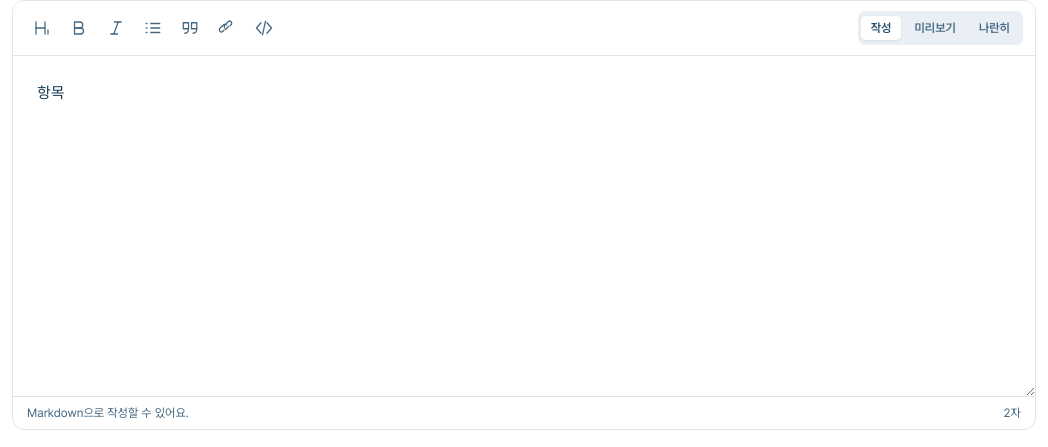
Test: 목록·링크·코드 도구와 분할 보기를 키보드로 접근할 수 있다
The image size is (1048, 447).
Click the button with aria-label "분할 보기".
click(994, 28)  # box [969, 16, 1020, 40]
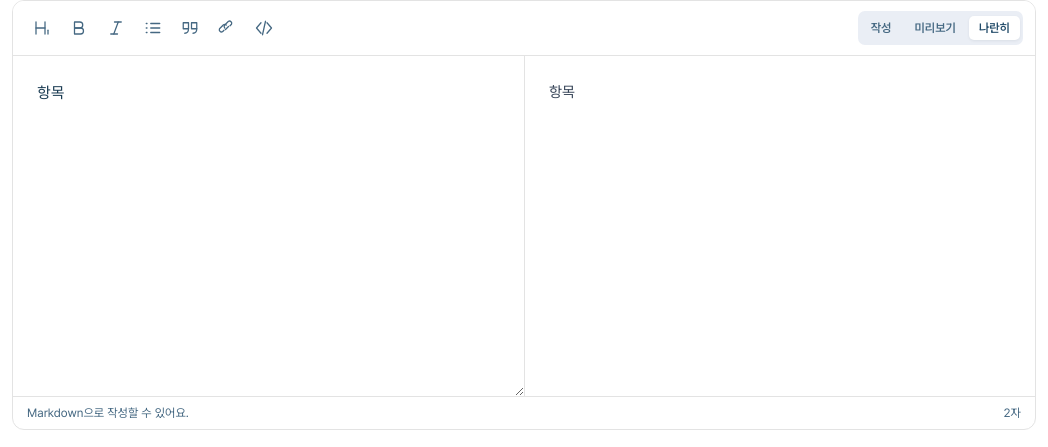
Check: the text box named "본문" is shown, box [13, 56, 524, 396]
Check: the element named "본문 미리보기" is shown, box [524, 56, 1035, 396]
